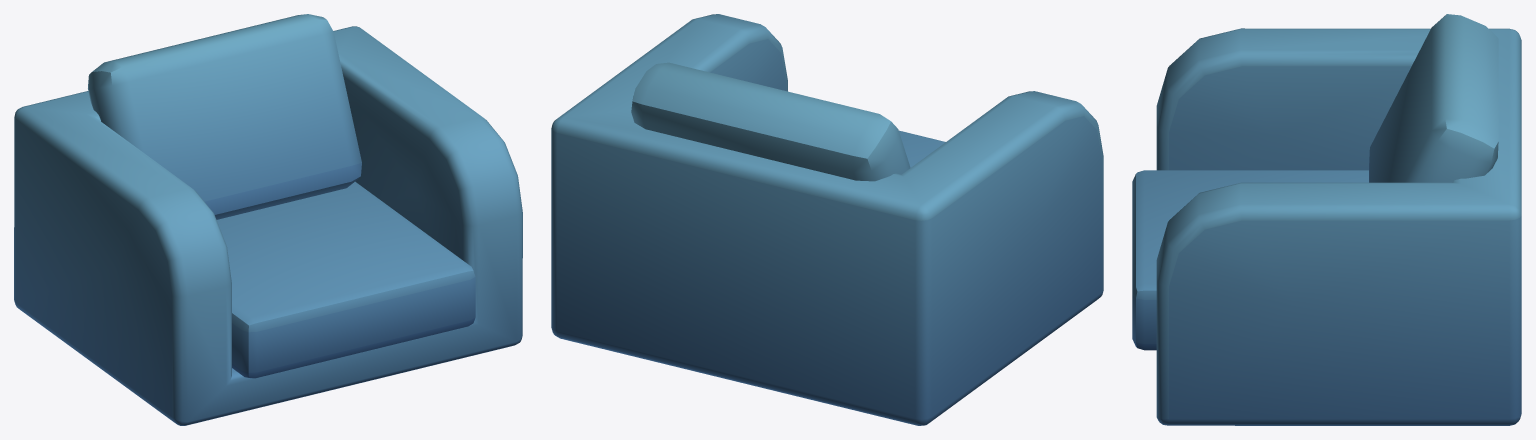
Rendered from K_armchair.glb.
3 views of the same model, side by side, from view 1: azimuth 30°, elevation 25°; view 2: azimuth 150°, elevation 25°; view 3: azimuth 270°, elevation 25° (orthographic). The views are drawn at different scales.
Visible parts, largest first — view 1: armchair; view 2: armchair; view 3: armchair.
Part boxes in pixels (box(x1,y1,x2,y2)): armchair: box(14, 14, 522, 425); armchair: box(551, 14, 1103, 425); armchair: box(1132, 14, 1521, 425).
Size of the model in its own units: 1.8 by 1.22 by 1.6.
